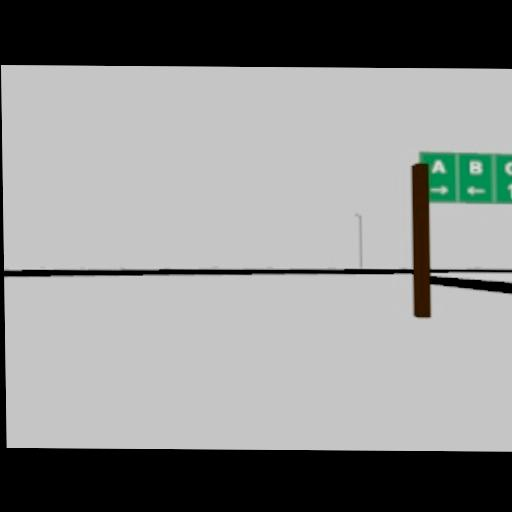A: (430, 158, 445, 171)
B: (468, 158, 481, 173)
C: (504, 160, 512, 173)
Left: (465, 184, 485, 193)
Right: (429, 184, 449, 192)
Straight: (507, 181, 512, 196)
